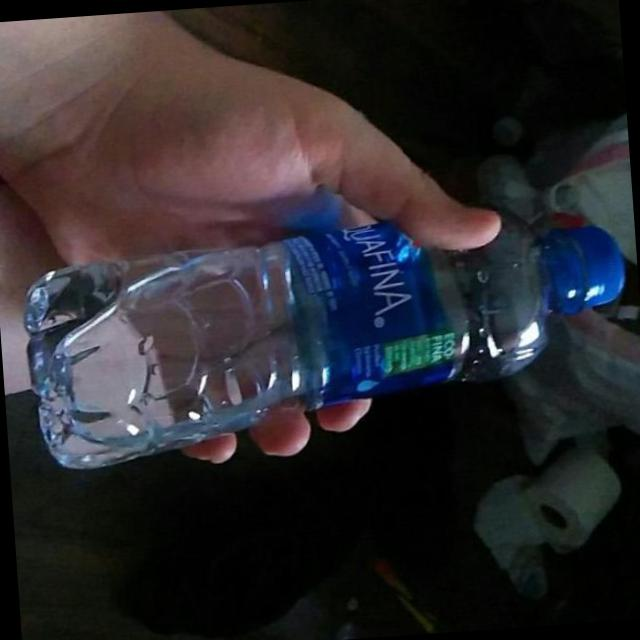BotolPlastik: (16, 196, 638, 474)
